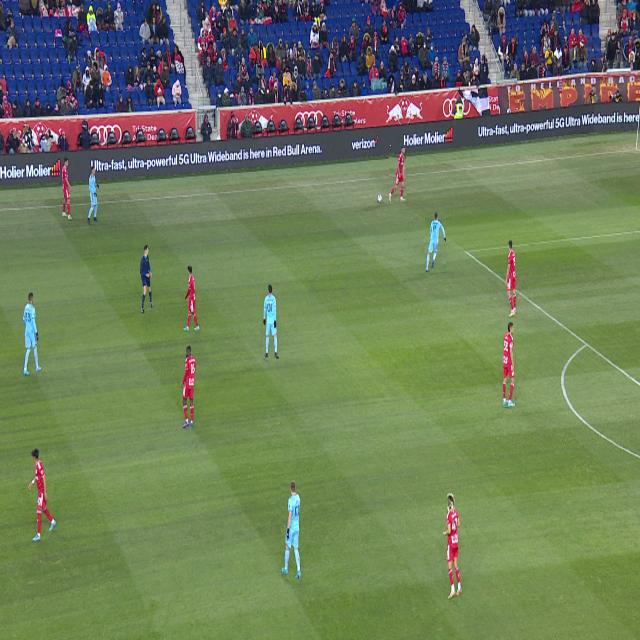football: (378, 195, 382, 203)
player: (28, 449, 56, 542), (443, 493, 462, 599), (282, 480, 301, 579), (23, 293, 42, 375), (425, 212, 446, 272), (263, 284, 279, 359), (183, 266, 200, 331), (182, 346, 195, 428), (503, 323, 515, 407), (389, 146, 406, 202), (505, 240, 517, 317), (87, 167, 99, 225), (62, 158, 73, 220)
referee: (140, 245, 153, 313)
